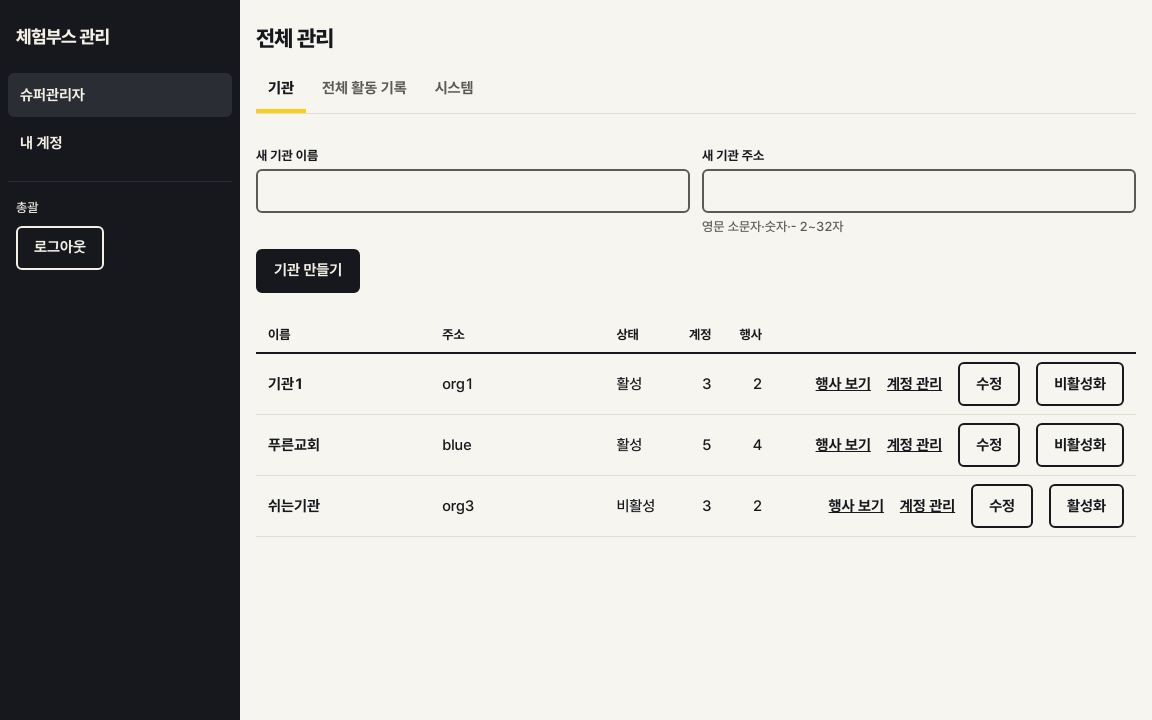
Test: 기관 목록 › 422 fields.slug 를 주소 입력란에 보인다
Expected: the element named "기관 목록" is shown, [256,317,1136,537]
In the field labelled "새 기관 이름": (473, 191) [256,169,690,213], type "새기관"
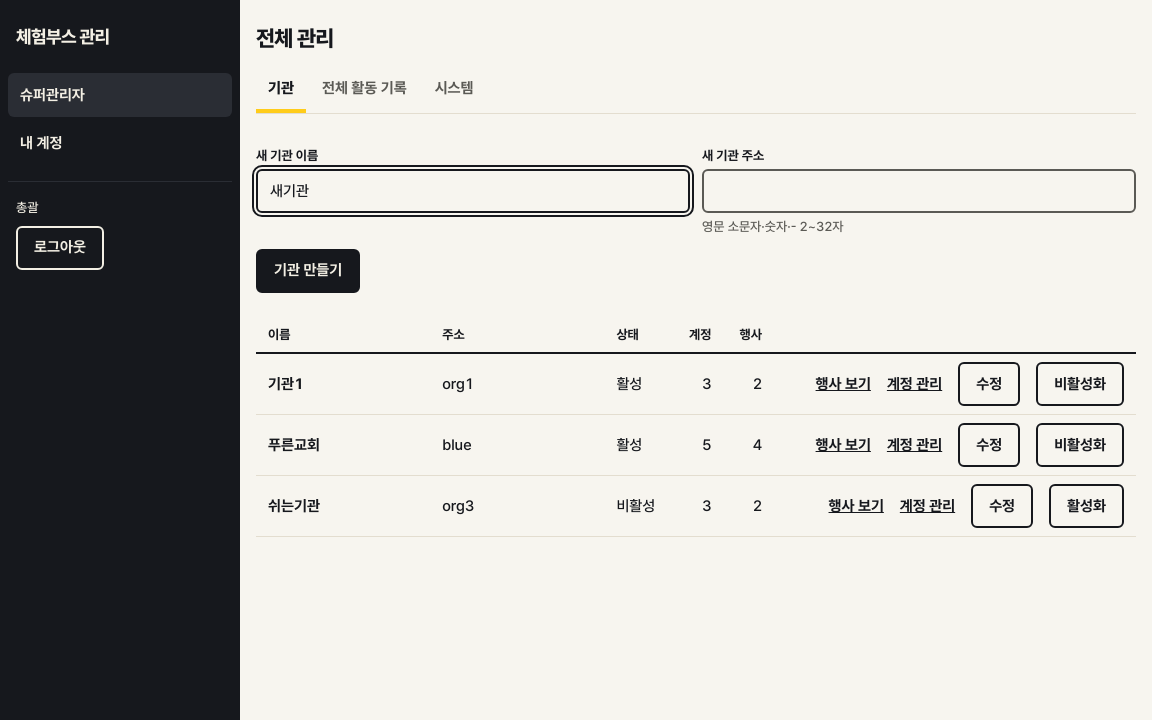
In the field labelled "새 기관 주소": (919, 191) [702,169,1136,213], type "manage"
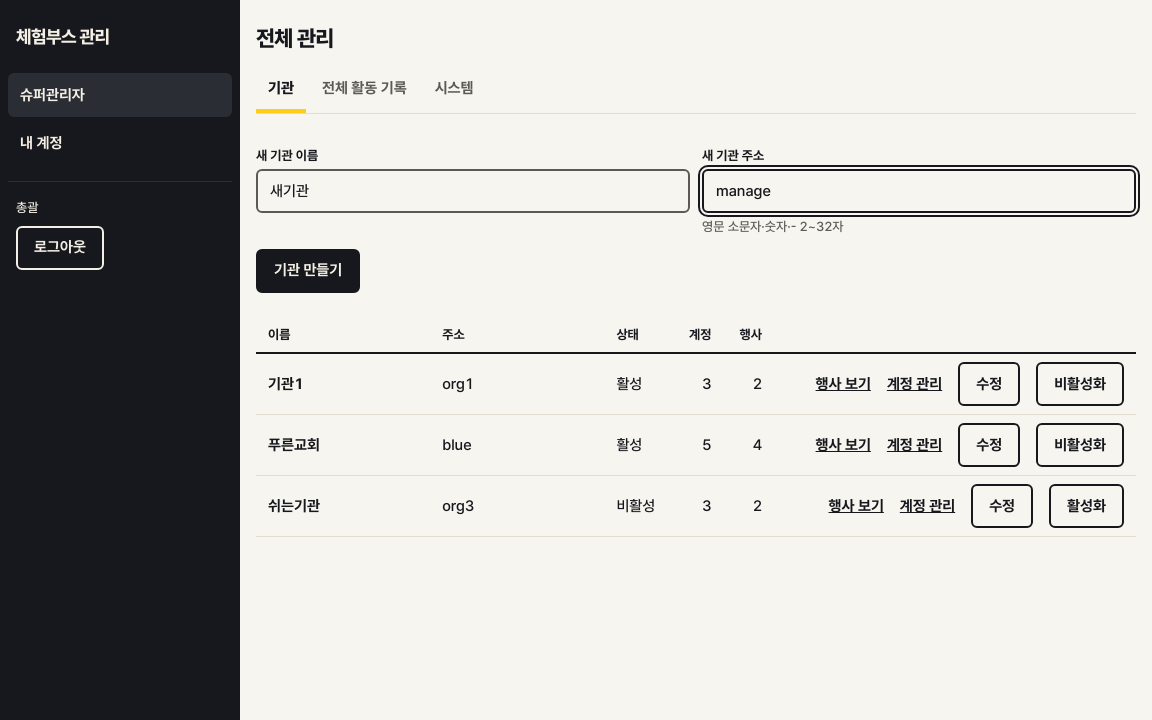
Click the button "기관 만들기": (308, 271) [256,249,360,293]
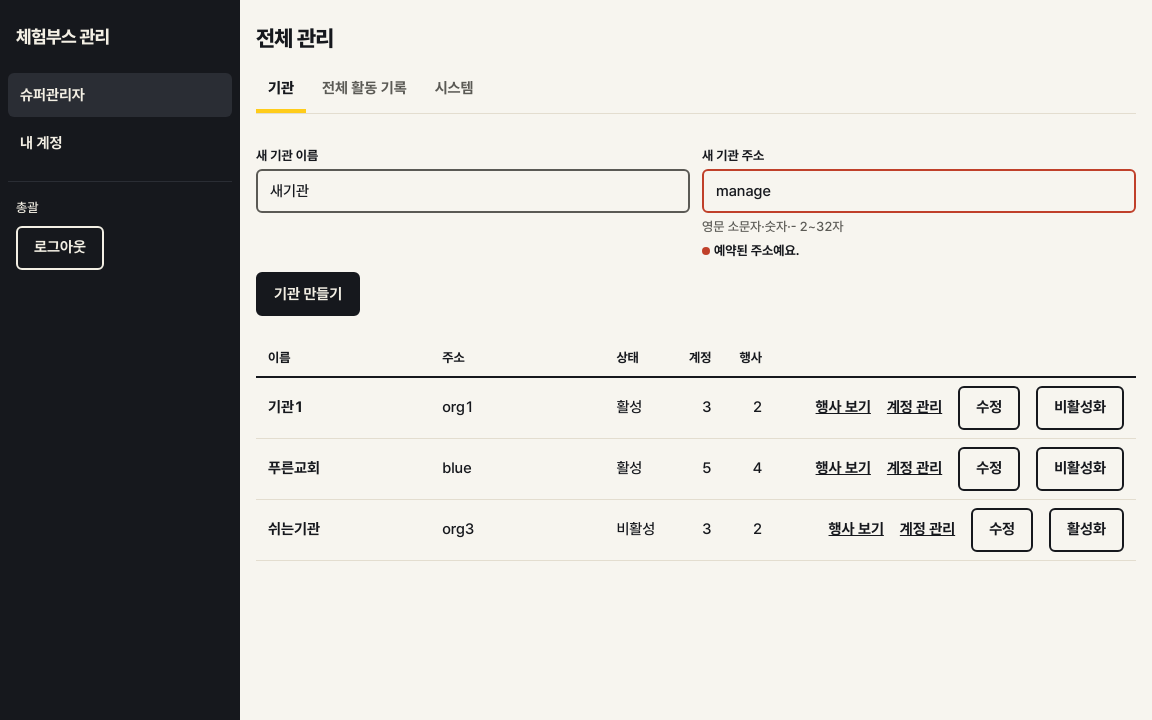
Expected: the text "예약된 주소예요." is shown, [702,243,799,258]
